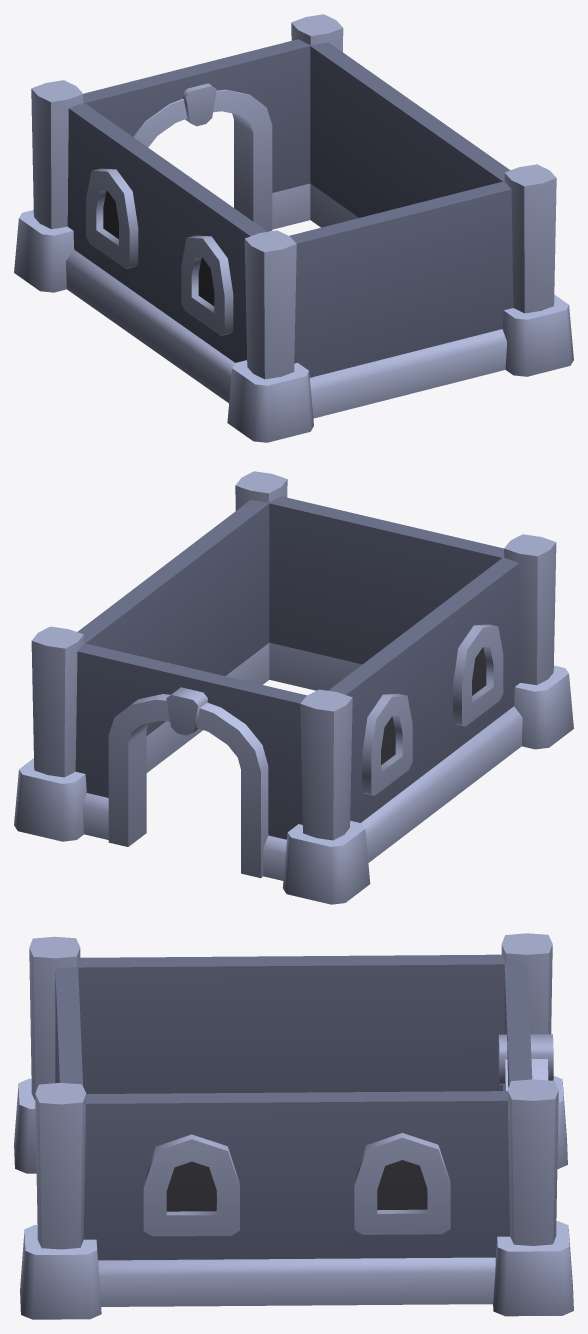
The model's file is crypt-large.004_lev2.glb.
3 renders of one model, top to bottom at view 1: azimuth 30°, elevation 25°; view 2: azimuth 150°, elevation 25°; view 3: azimuth 270°, elevation 25°, orthographic. The views are drawn at different scales.
Parts seen in each view (by area): view 1: crypt-large.004_lev2; view 2: crypt-large.004_lev2; view 3: crypt-large.004_lev2.
Part boxes in pixels (bbox=[...]): crypt-large.004_lev2: bbox=[14, 14, 573, 442]; crypt-large.004_lev2: bbox=[14, 471, 573, 904]; crypt-large.004_lev2: bbox=[14, 933, 573, 1319].
Bounding box in the file's own units: 30.23 × 16 × 38.88.
Materials: 1 (1 with a texture image).
